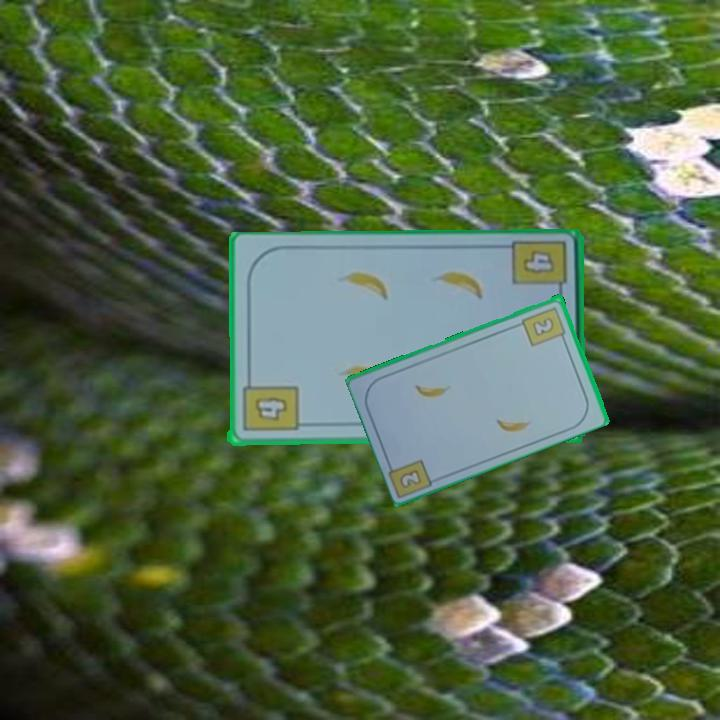2b: (519, 303, 569, 349), (396, 465, 425, 491)
4b: (509, 238, 570, 303), (238, 373, 300, 435)
